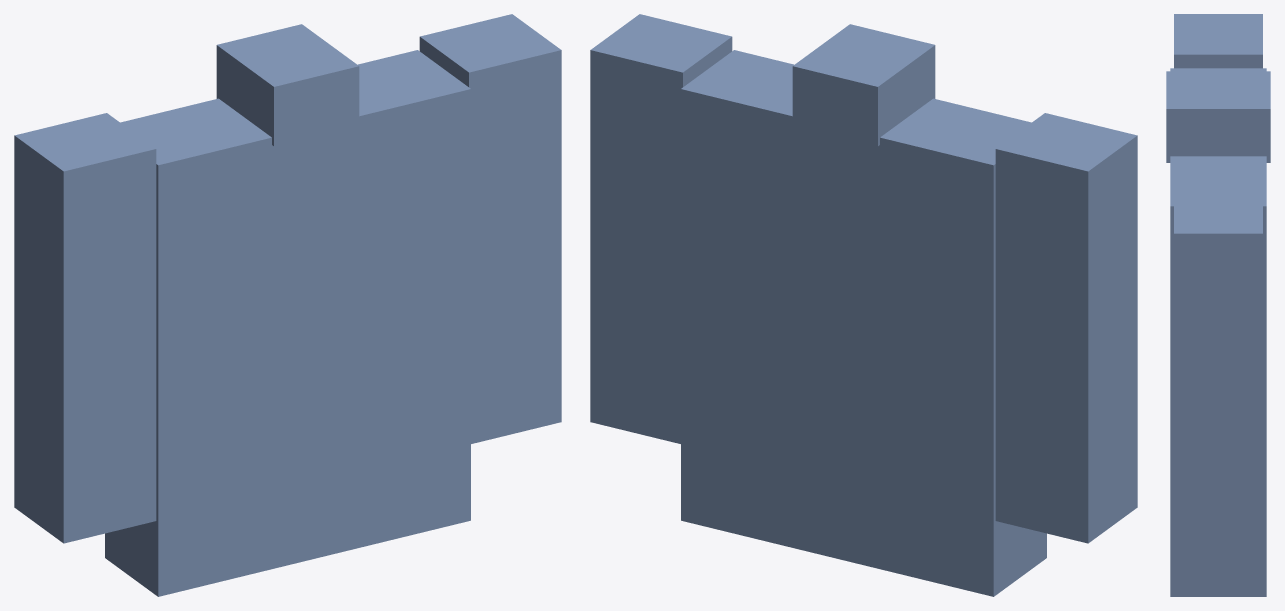
The model's file is c_shirt_checked.glb.
3 renders of one model, left to right at view 1: azimuth 30°, elevation 25°; view 2: azimuth 150°, elevation 25°; view 3: azimuth 270°, elevation 25°, orthographic. The views are drawn at different scales.
Parts seen in each view (by area): view 1: c_shirt_checked; view 2: c_shirt_checked; view 3: c_shirt_checked.
Boxes of the visible parts, left/top/right/bottom form: c_shirt_checked: left=14, top=14, right=561, bottom=596; c_shirt_checked: left=590, top=14, right=1137, bottom=596; c_shirt_checked: left=1166, top=14, right=1270, bottom=596.
Bounding box in the file's own units: 0.7 × 0.65 × 0.14.
